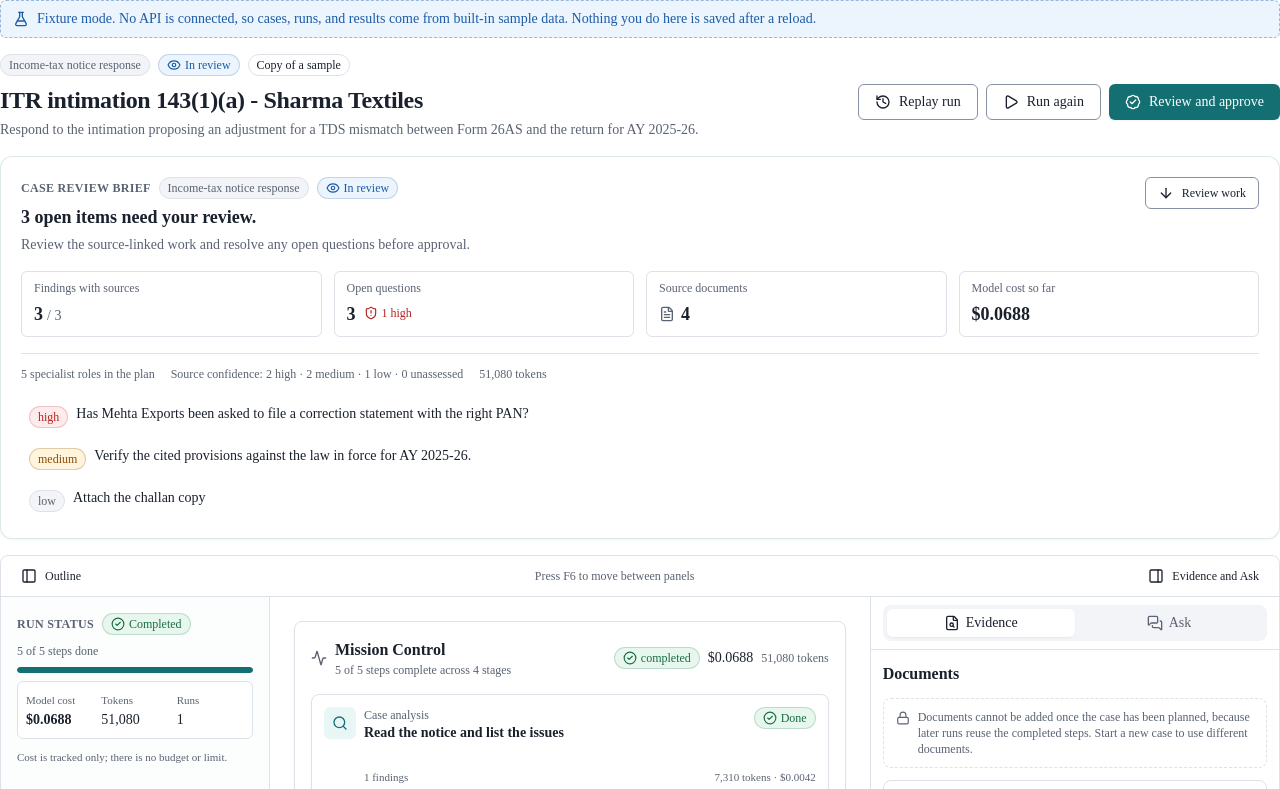
Test: review workspace › lists unresolved high-severity items first in the approval gate
Click the button "Review and approve" at [1194, 102], box [1109, 84, 1279, 120]
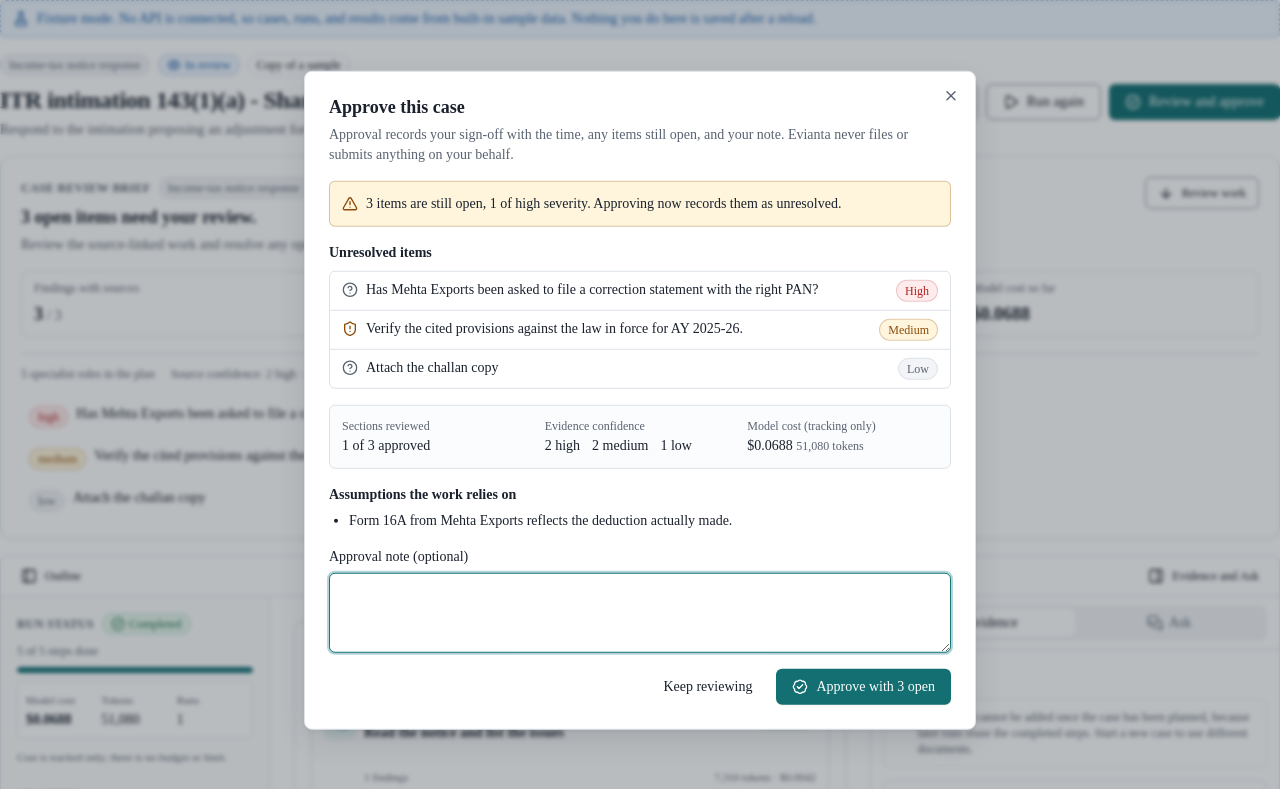
Result: the message shows "3 items are still open, 1 of high severity." at [329, 180, 951, 226]
Result: the 1st list item shows "Has Mehta Exports been asked to file a correction" at [366, 281, 818, 296]
Click the button "Approve with 3 open" at [864, 686], box [776, 668, 951, 704]
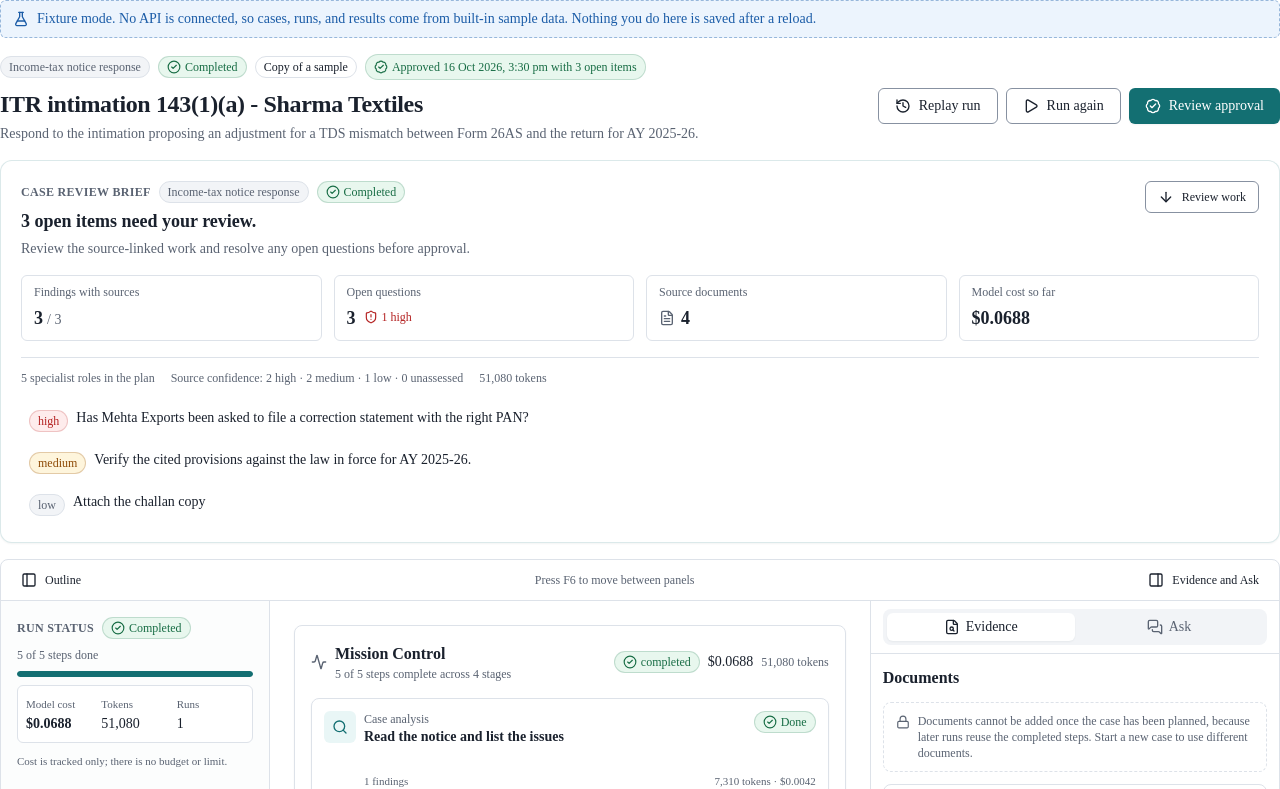
Result: the element with test id "approval-badge" shows "with 3 open items" at [548, 60, 637, 74]
